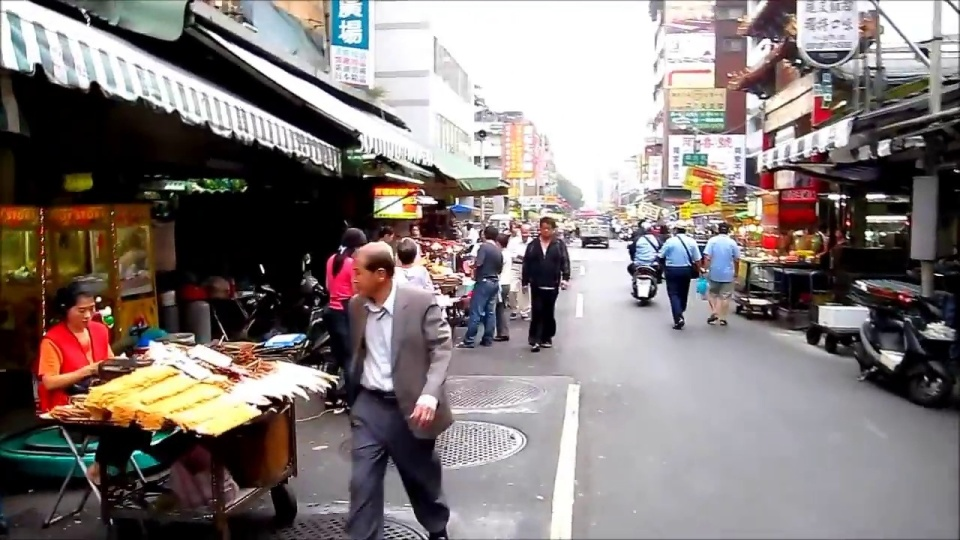person_head: (353, 240, 394, 300), (332, 226, 366, 278), (60, 284, 99, 329), (396, 239, 417, 265), (538, 216, 556, 239), (672, 218, 688, 234), (378, 225, 394, 241), (519, 223, 531, 243), (716, 220, 730, 236), (496, 232, 508, 250), (484, 225, 496, 241), (408, 220, 419, 235), (642, 218, 651, 235), (509, 219, 518, 234), (478, 229, 486, 243), (660, 224, 669, 236), (465, 221, 473, 232), (638, 219, 643, 229)
person_vbox: (342, 240, 453, 540), (32, 282, 133, 480), (324, 225, 366, 417), (522, 216, 570, 354), (455, 225, 504, 348), (657, 219, 701, 332), (704, 221, 740, 328), (393, 237, 435, 295), (510, 222, 534, 320), (492, 234, 510, 342), (627, 219, 658, 281), (627, 219, 646, 261), (658, 223, 671, 283), (459, 220, 478, 256), (405, 217, 420, 255), (507, 218, 518, 240), (574, 218, 580, 239), (610, 216, 615, 240), (615, 219, 620, 237)
